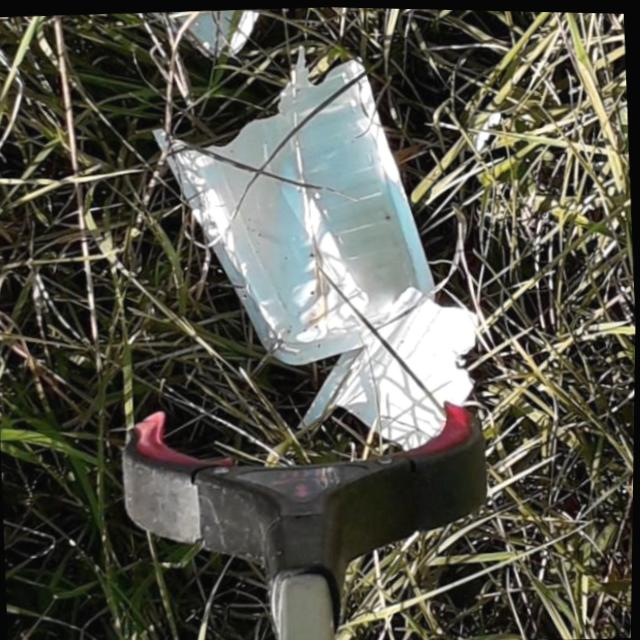Plastic: (140, 29, 494, 467)
